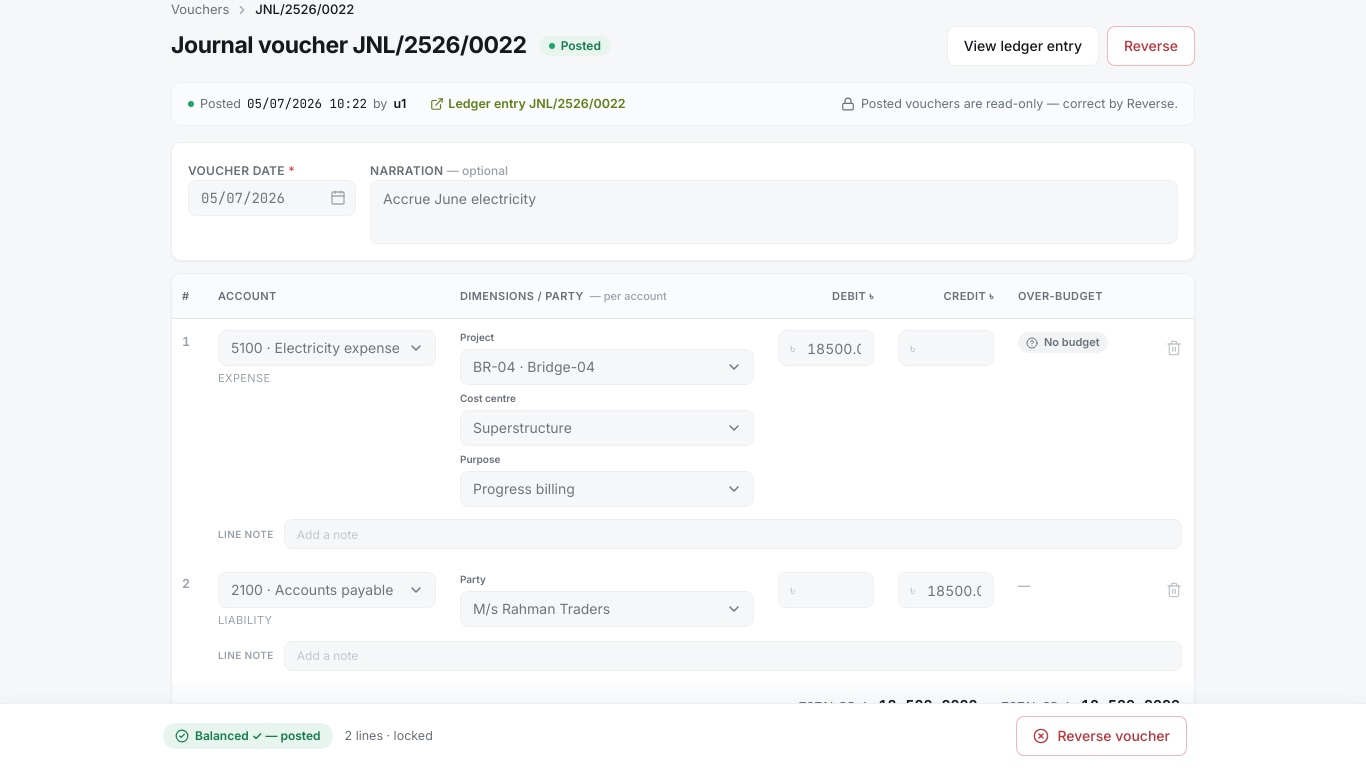
Test: JournalVoucherEditor — posted read-only + Reverse (FR-GEN-018) › maps ALREADY_REVERSED to the friendly banner
This screenshot has width=1366, height=768.
Expected: the heading "Journal voucher JNL/2526/0022" is shown, [171,28,527,63]
Click the button with test id "journal-editor-reverse". click: click(1151, 46)
box: [1107,26,1195,66]
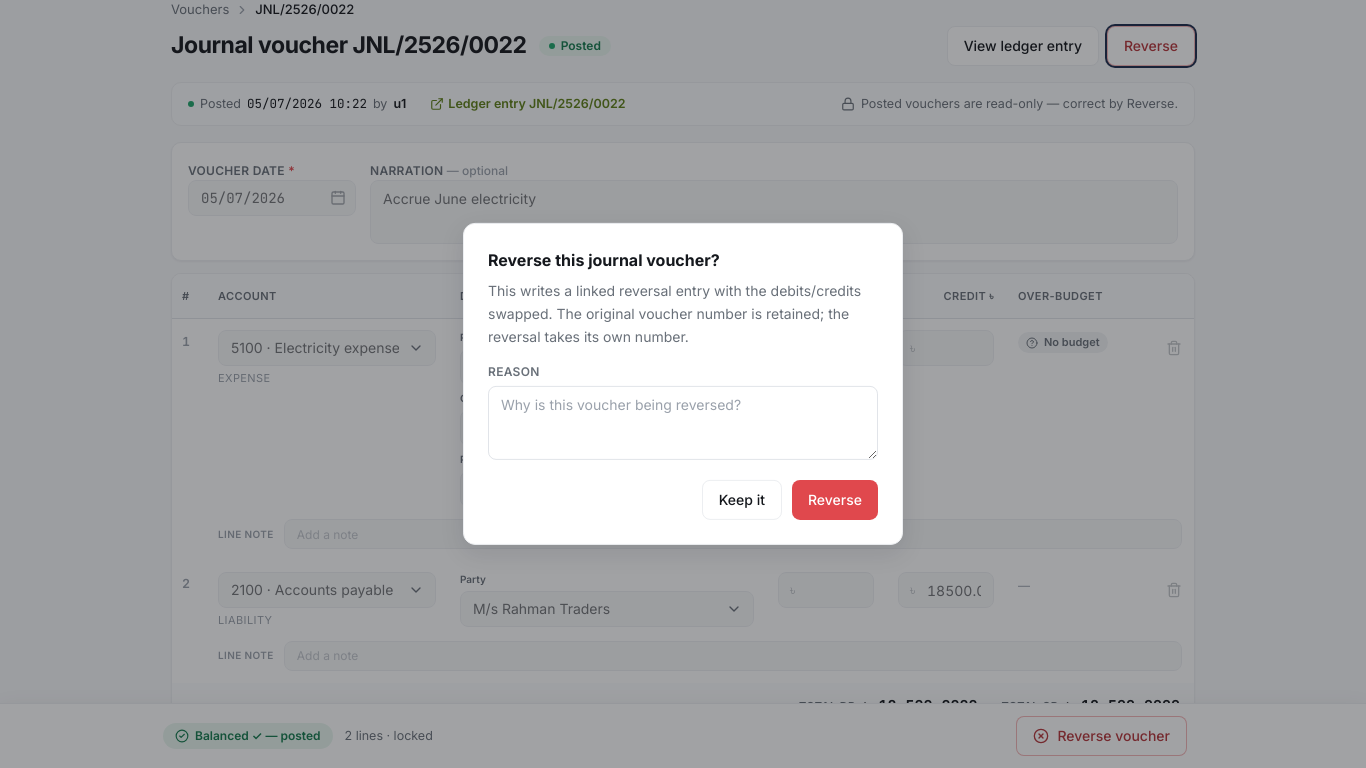
Type "Duplicate" into the text box with test id "voucher-reverse-reason". click: (683, 423)
box: [488,386,878,460]
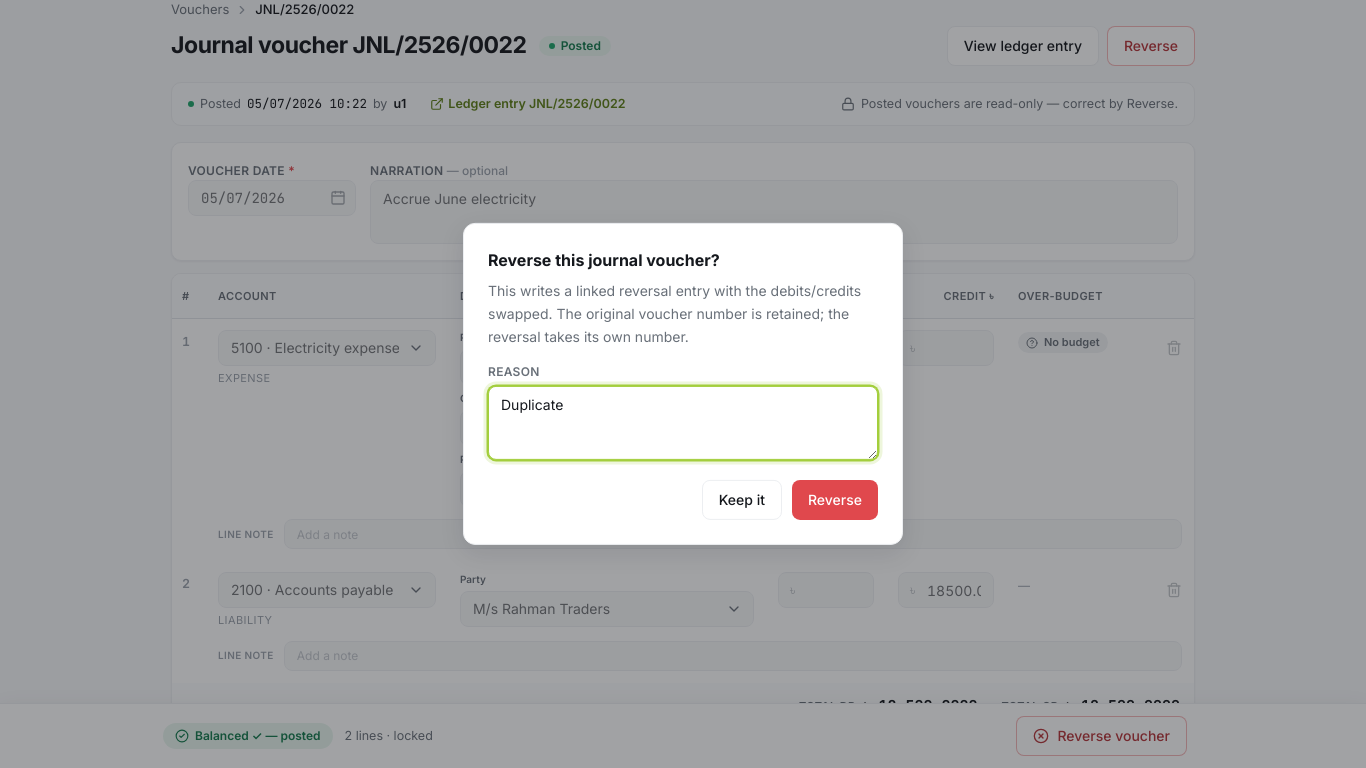
Click the button with test id "voucher-reverse-confirm". click: click(835, 500)
box: [792,480,878,520]
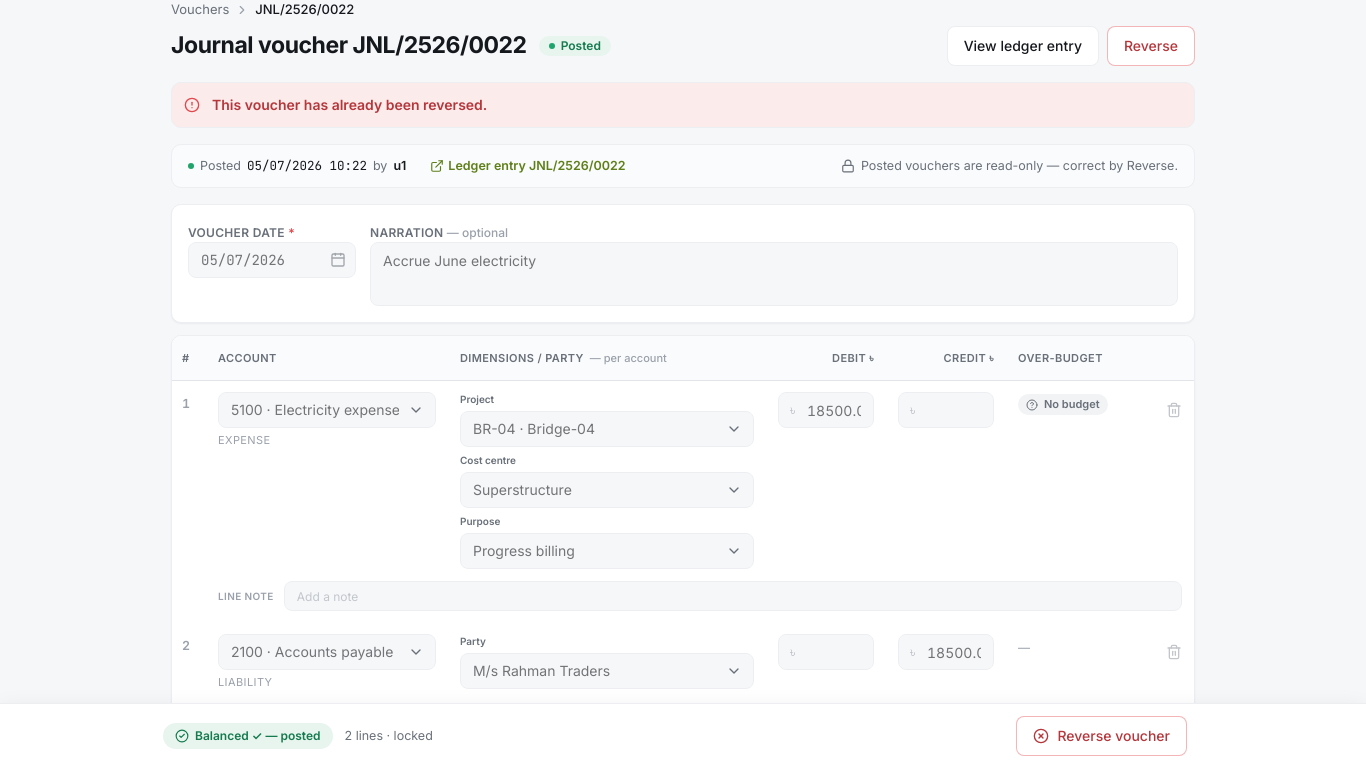
Result: the message with test id "journal-editor-banner" reads "This voucher has already been reversed." at [212,96,487,112]
